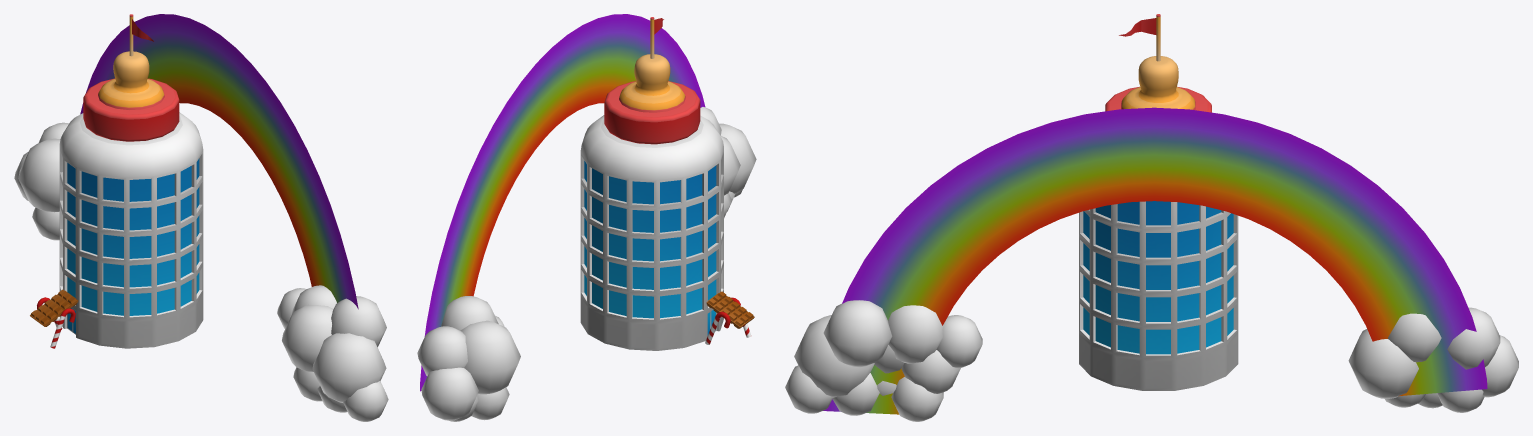
File: baby_boss_sirket_binasi6.fbx
3 views of the same model, side by side, from view 1: azimuth 30°, elevation 25°; view 2: azimuth 150°, elevation 25°; view 3: azimuth 270°, elevation 25° (orthographic). The views are drawn at different scales.
Visible parts, largest first — view 1: baby_boss_sirket_binasi, baby_boss_gokkusagi, baby_boss_bulutlar; view 2: baby_boss_sirket_binasi, baby_boss_gokkusagi, baby_boss_bulutlar; view 3: baby_boss_gokkusagi, baby_boss_sirket_binasi, baby_boss_bulutlar.
Boxes of the visible parts, x1=… form: baby_boss_sirket_binasi: x1=30, y1=14, x2=203, y2=348; baby_boss_gokkusagi: x1=80, y1=14, x2=358, y2=309; baby_boss_bulutlar: x1=14, y1=122, x2=388, y2=421; baby_boss_sirket_binasi: x1=580, y1=17, x2=754, y2=350; baby_boss_gokkusagi: x1=420, y1=14, x2=705, y2=391; baby_boss_bulutlar: x1=417, y1=107, x2=756, y2=421; baby_boss_gokkusagi: x1=823, y1=107, x2=1487, y2=414; baby_boss_sirket_binasi: x1=1079, y1=14, x2=1238, y2=390; baby_boss_bulutlar: x1=785, y1=300, x2=1518, y2=421.
Size of the model in its own units: 13.54 by 19.61 by 35.74.
